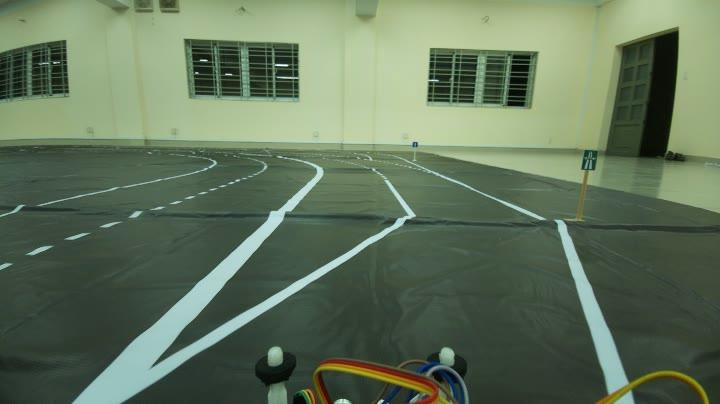highway_entry: (579, 142, 602, 178)
